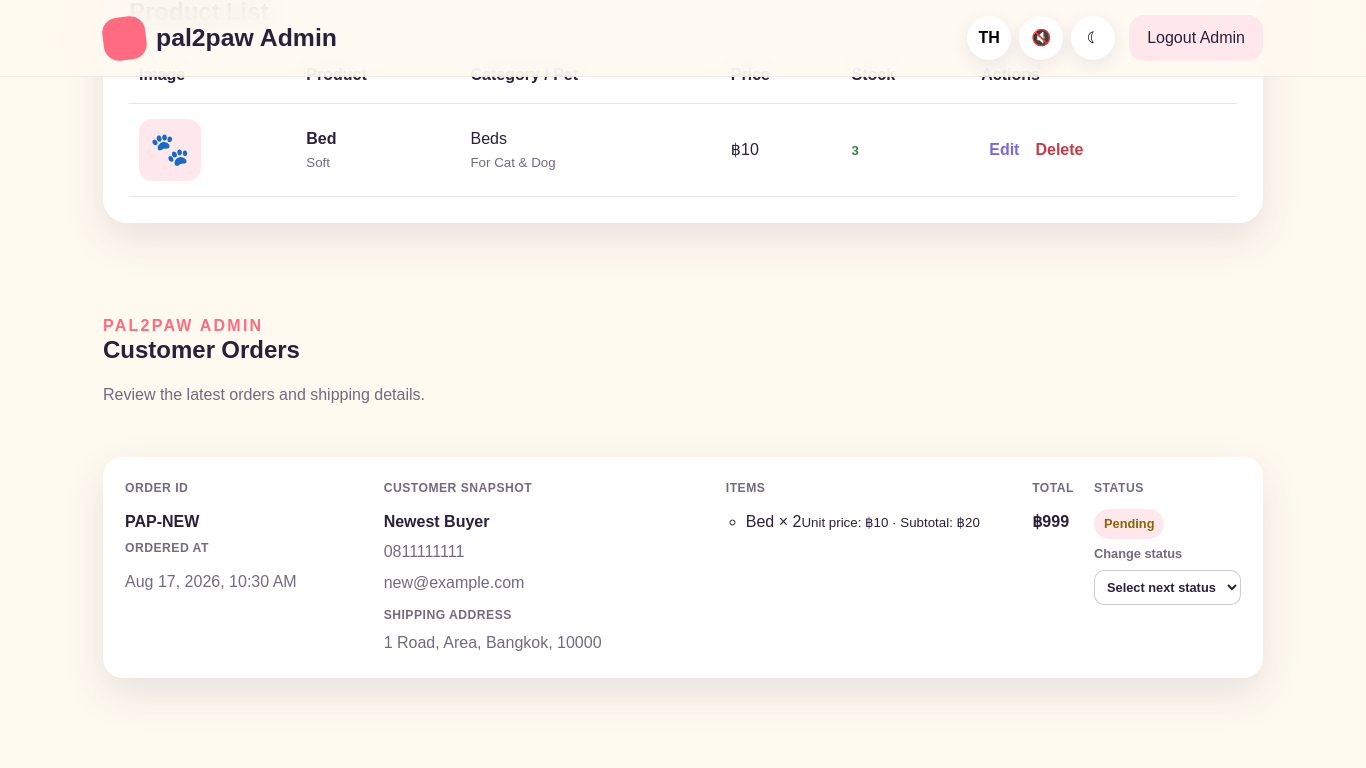
Scenario: updates valid status from the server and keeps rejected status unchanged
(page scrolled)
Select "Processing" in the dropdown named "Change status PAP-NEW": (1168, 587) [1094,570,1241,605]
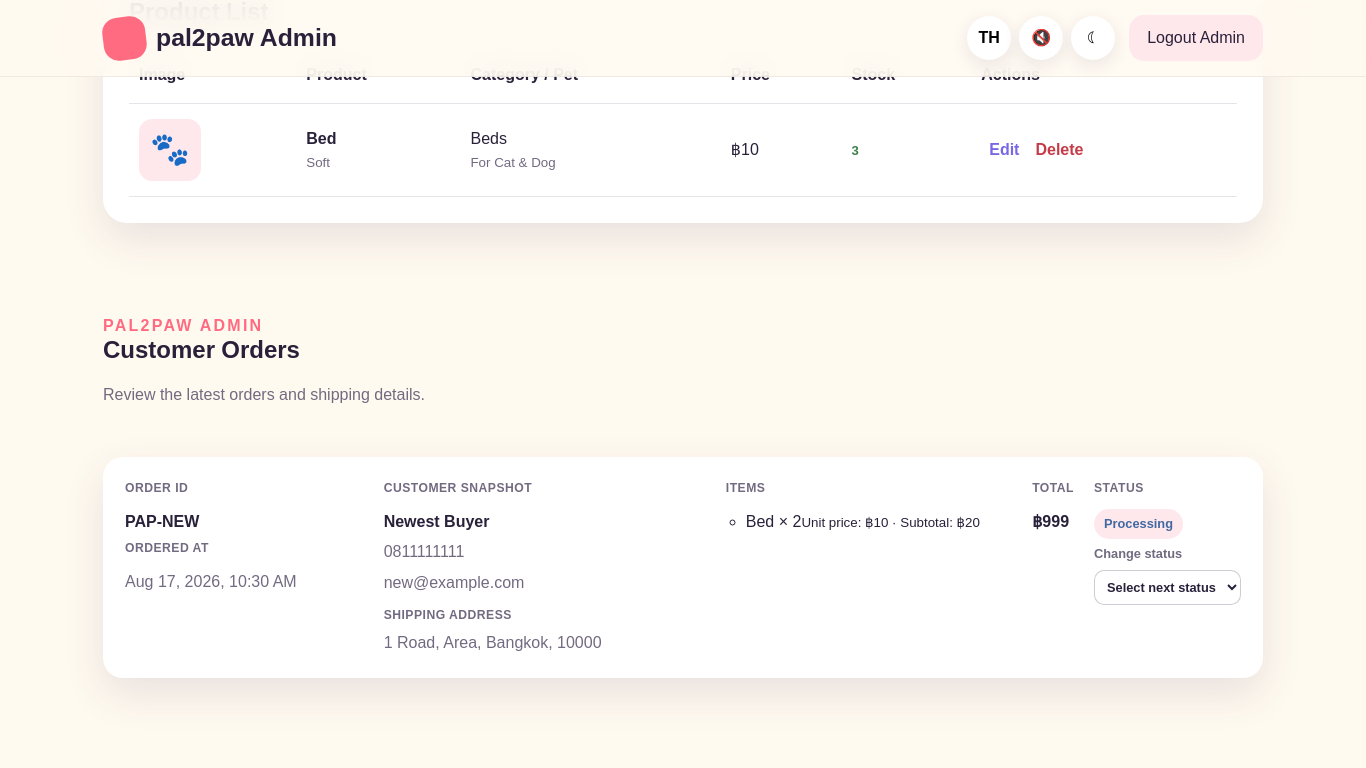
Expected: the text "Processing" is shown, [1094,509,1183,539]
Select "Shipped" in the dropdown named "Change status PAP-NEW": (1168, 587) [1094,570,1241,605]
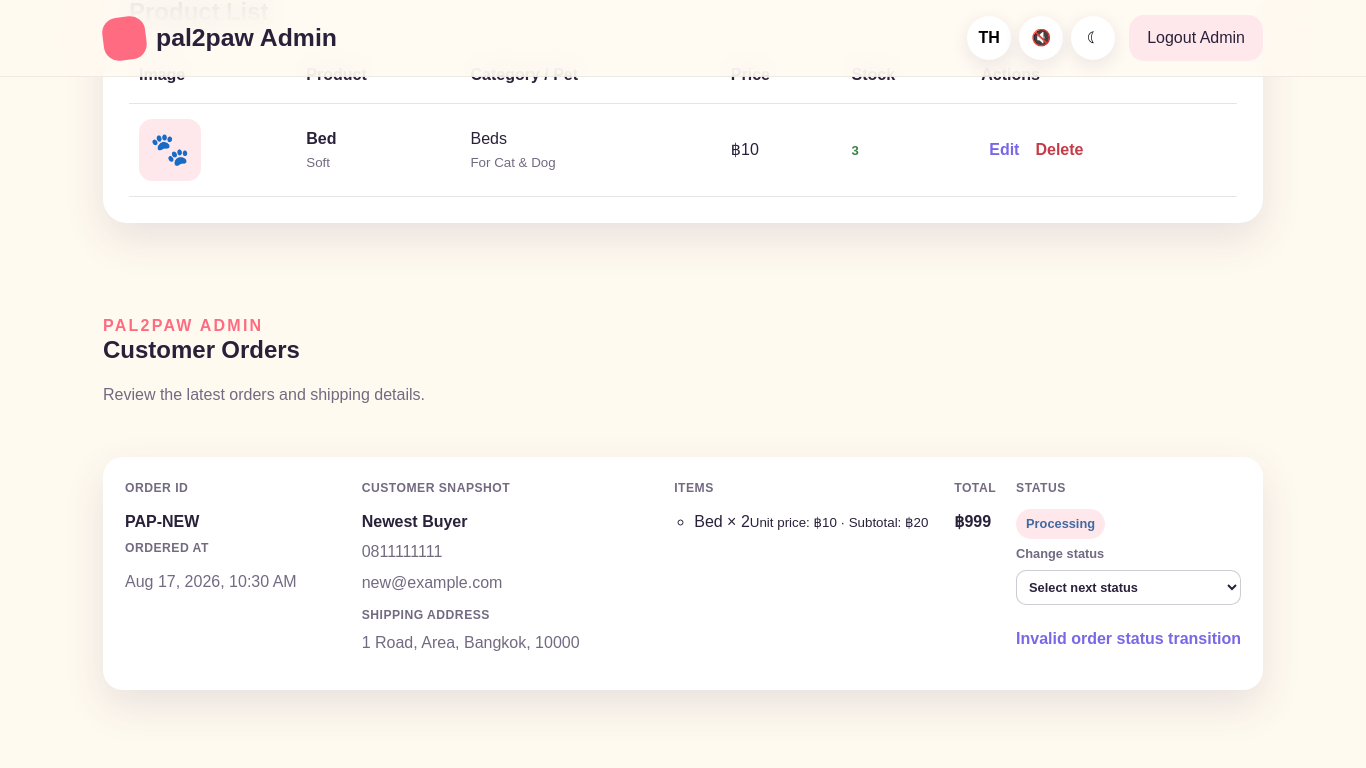
Expected: the text "Processing" is shown, [1016,509,1105,539]
Expected: the message reads "Invalid order status transition", [1016,630,1241,647]
